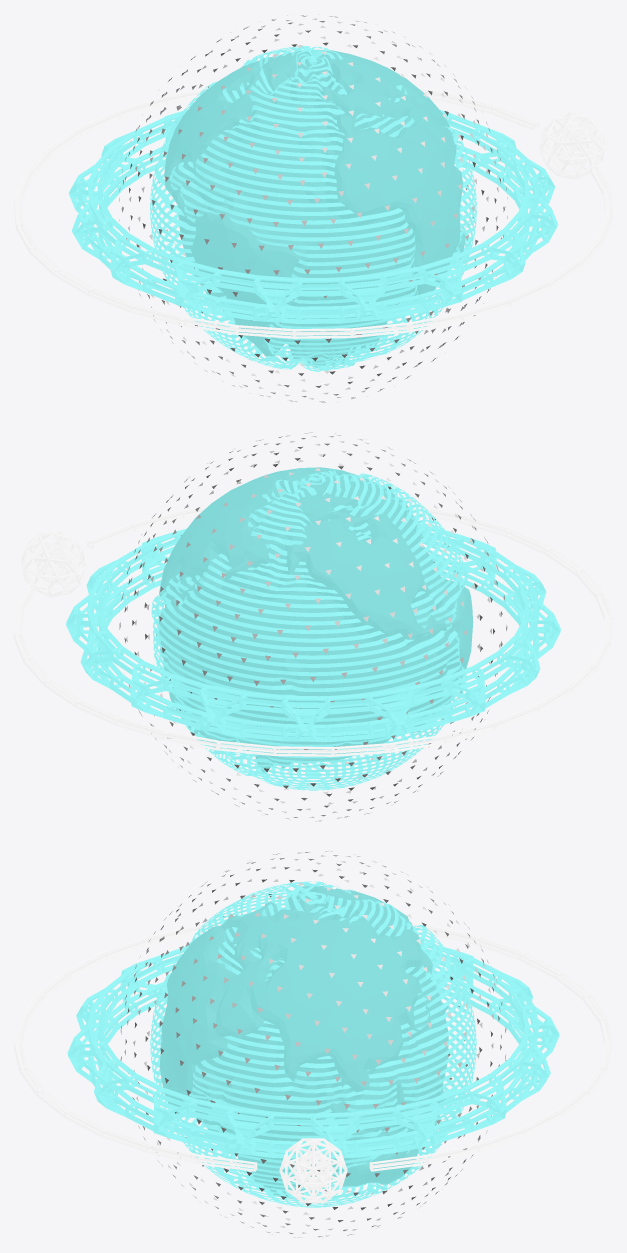
File: Hologram.glb
3 renders of one model, top to bottom at view 1: azimuth 30°, elevation 25°; view 2: azimuth 150°, elevation 25°; view 3: azimuth 270°, elevation 25°, orthographic.
Visible parts, largest first — view 1: TERRE1, Circle.643, Sphere.002, Circle, Circle.455, Icosphere.002; view 2: TERRE1, Sphere.002, Circle.643, Circle, Circle.455, Icosphere.002; view 3: TERRE1, Circle.643, Sphere.002, Circle, Circle.455, Icosphere.002.
Boxes of the visible parts, bbox=[...] form: TERRE1: bbox=[164, 49, 465, 367]; Circle.643: bbox=[68, 109, 558, 323]; Sphere.002: bbox=[150, 45, 476, 371]; Circle: bbox=[14, 87, 612, 338]; Circle.455: bbox=[119, 14, 507, 402]; Icosphere.002: bbox=[539, 112, 605, 179]; TERRE1: bbox=[155, 467, 473, 772]; Sphere.002: bbox=[151, 469, 467, 790]; Circle.643: bbox=[66, 523, 560, 741]; Circle: bbox=[14, 503, 612, 756]; Circle.455: bbox=[119, 432, 507, 821]; Icosphere.002: bbox=[21, 530, 87, 597]; TERRE1: bbox=[159, 886, 448, 1198]; Circle.643: bbox=[67, 943, 559, 1158]; Sphere.002: bbox=[150, 881, 476, 1207]; Circle: bbox=[14, 921, 612, 1171]; Circle.455: bbox=[120, 850, 506, 1238]; Icosphere.002: bbox=[279, 1138, 347, 1203].
Size of the model in its own units: 12.94 by 7.98 by 12.3.
